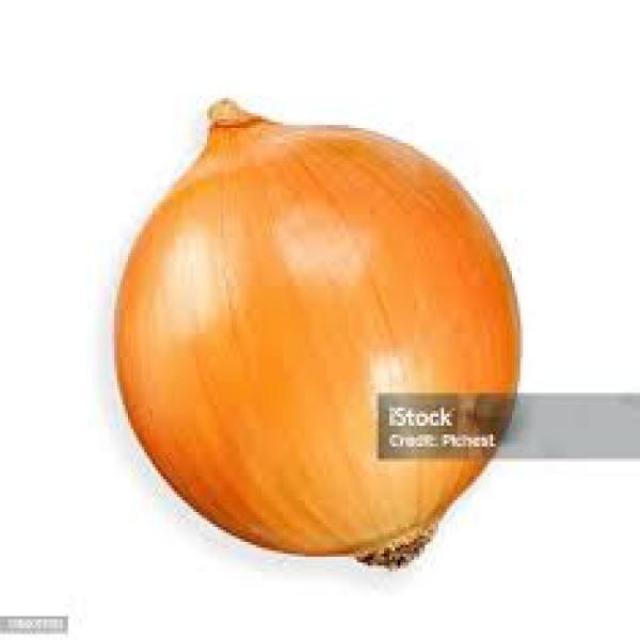Onion: (111, 101, 523, 569)
